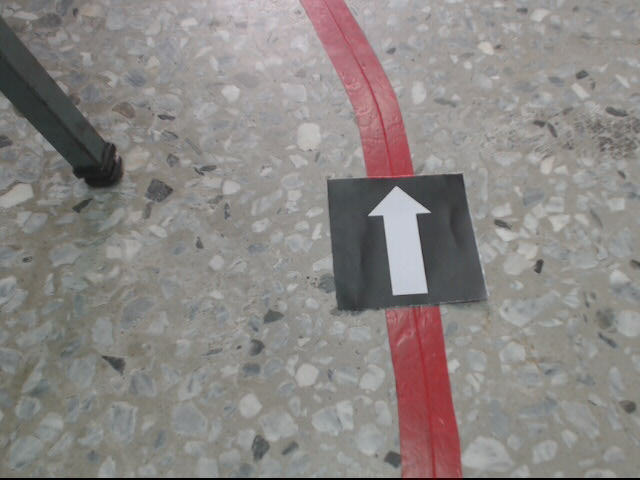straight: (325, 171, 490, 313)
